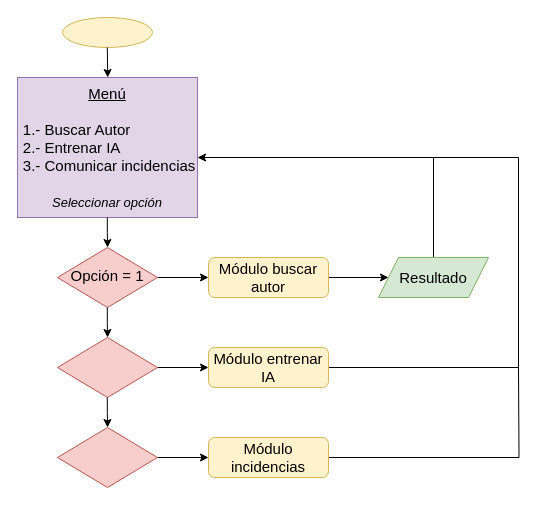
Image size: 538x505. Some labels were removed from this diagram. The box of each missing label's shape, as (x1, y1, x2, y2) in pixels:
Inicio: (62, 16, 152, 48)
Opción = 2: (56, 336, 158, 398)
Opción = 3: (56, 426, 158, 488)
